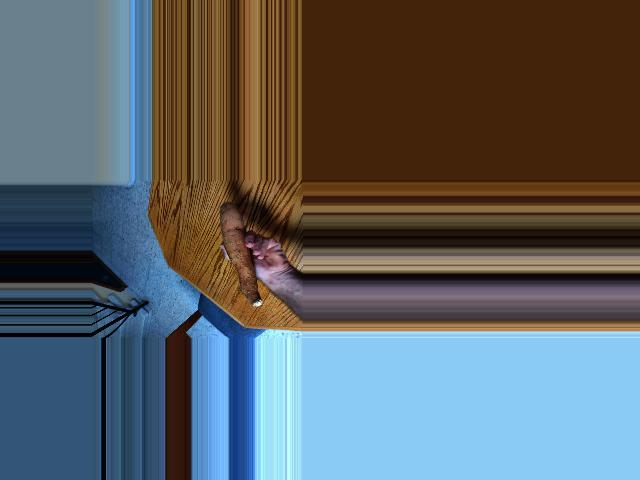sweet_potato: (214, 206, 272, 305)
